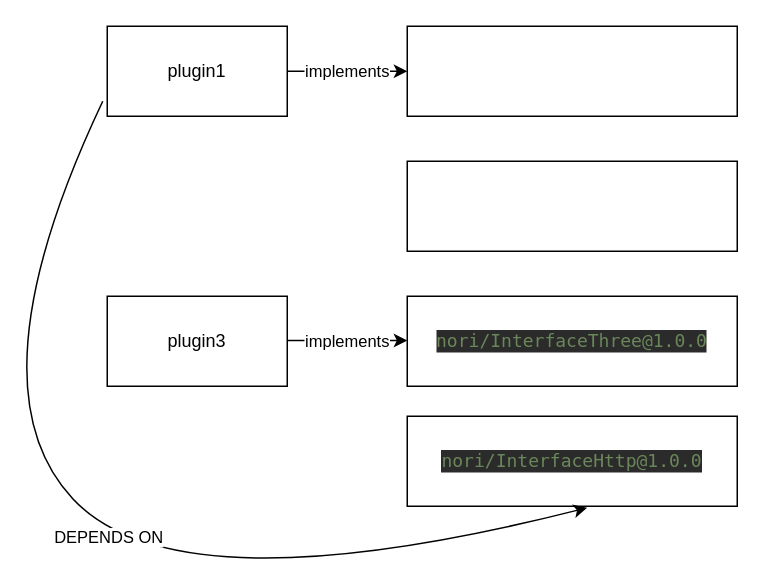
The diagram is 764 pixels wide and 585 high, and some of its shapes have lost their labels. Here are the shapes that lost their labels. From the top down, the centre of each, then its label:
At (x=571, y=70): "nori/InterfaceOne@1.0.0".
At (x=571, y=205): "nori/InterfaceTwo@1.0.0".
